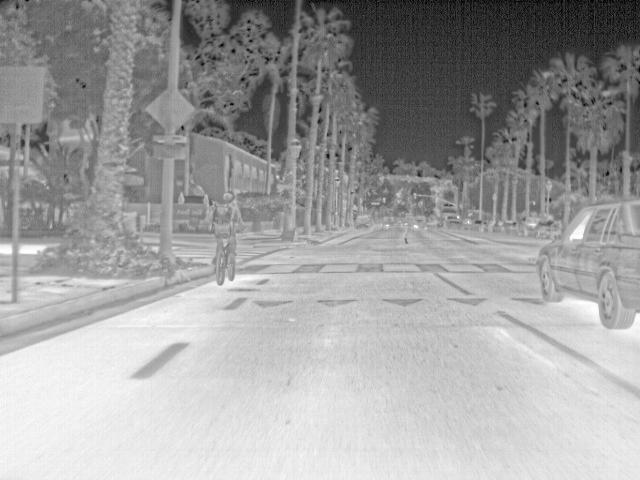car: (537, 197, 639, 330), (438, 207, 461, 227), (520, 215, 543, 234), (351, 214, 373, 228), (443, 214, 461, 228), (471, 220, 486, 232)
person: (211, 193, 244, 275)
